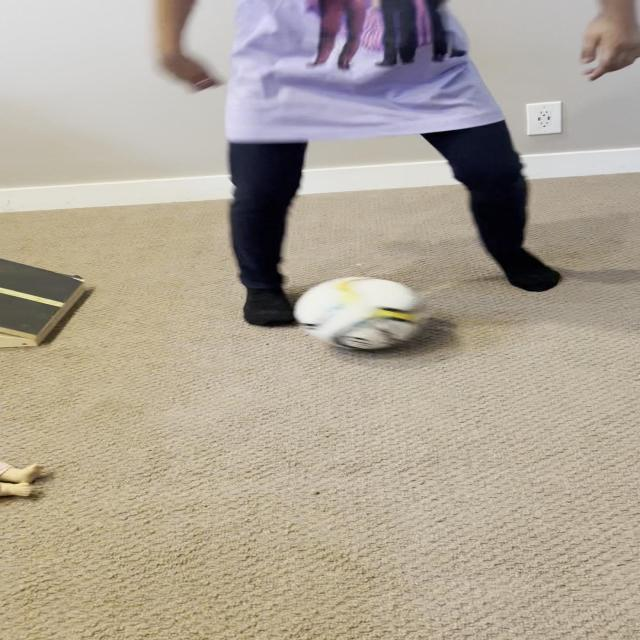Soccer Ball: (295, 277, 429, 349)
